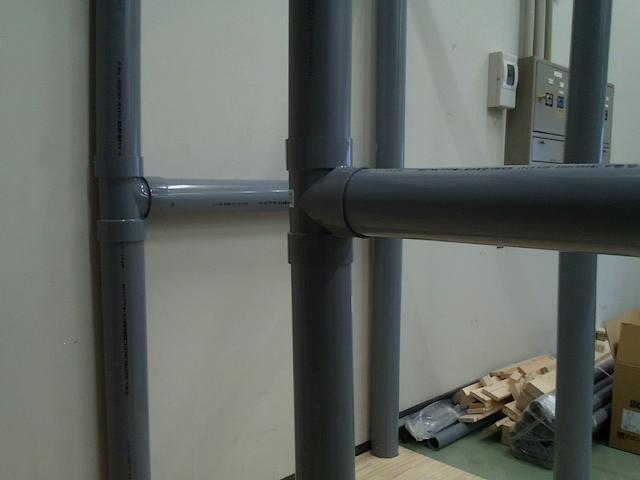junction: (284, 140, 382, 271), (91, 153, 170, 244)
